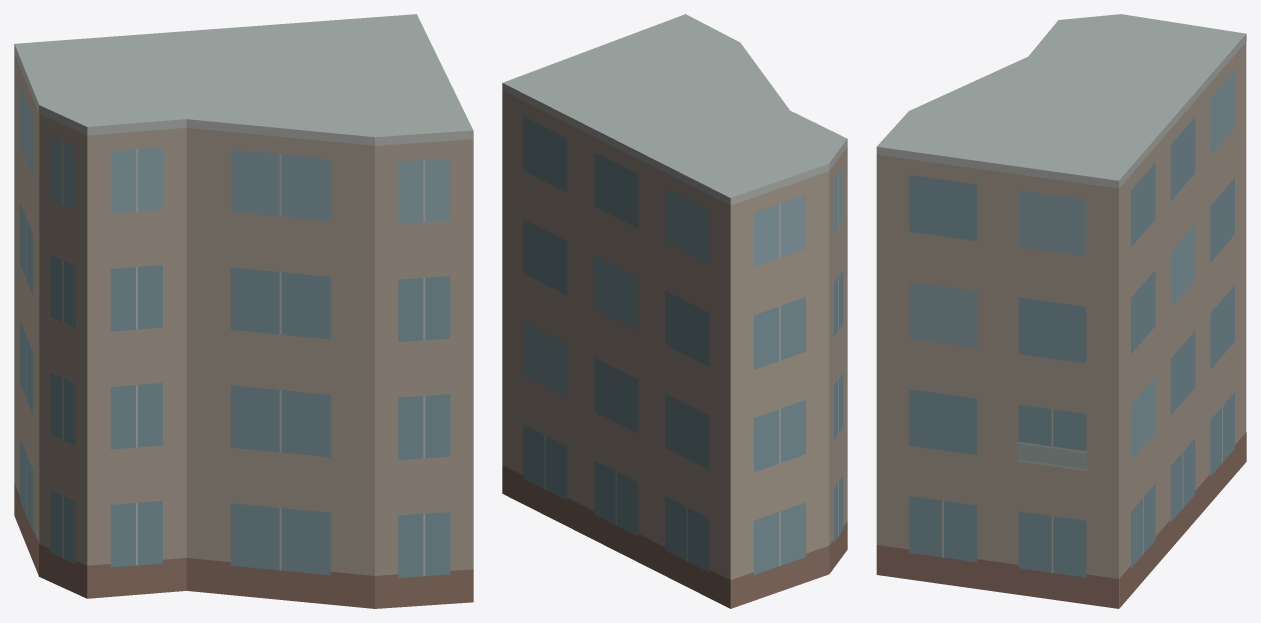
Rendered from survey-upis-32943524.glb.
3 renders of one model, left to right at view 1: azimuth 30°, elevation 25°; view 2: azimuth 150°, elevation 25°; view 3: azimuth 270°, elevation 25°, orthographic. The views are drawn at different scales.
Parts seen in each view (by area): view 1: survey-upis-32943524.tmp; view 2: survey-upis-32943524.tmp; view 3: survey-upis-32943524.tmp.
Part boxes in pixels (x1,y1,x2,y2): survey-upis-32943524.tmp: (14, 14, 473, 608); survey-upis-32943524.tmp: (502, 14, 847, 608); survey-upis-32943524.tmp: (876, 14, 1246, 608).
Bounding box in the file's own units: 11.12 × 13.3 × 10.42.
